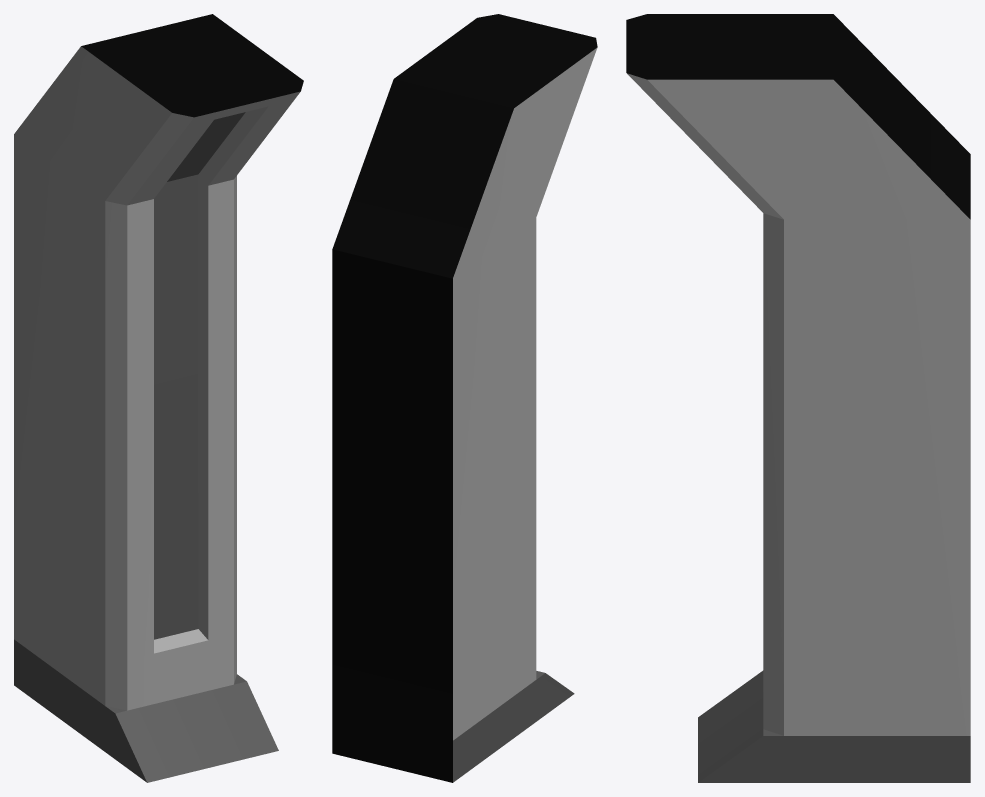
The model's file is Pillar.fbx.
3 views of the same model, side by side, from view 1: azimuth 30°, elevation 25°; view 2: azimuth 150°, elevation 25°; view 3: azimuth 270°, elevation 25° (orthographic). The views are drawn at different scales.
Visible parts, largest first — view 1: Cube.002; view 2: Cube.002; view 3: Cube.002.
Part boxes in pixels (x1,y1,x2,y2): Cube.002: (14, 14, 303, 782); Cube.002: (332, 14, 597, 782); Cube.002: (626, 14, 970, 782).
Size of the model in its own units: 60 by 300 by 133.
